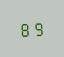eight: (19, 20, 31, 37)
nine: (32, 19, 44, 36)
